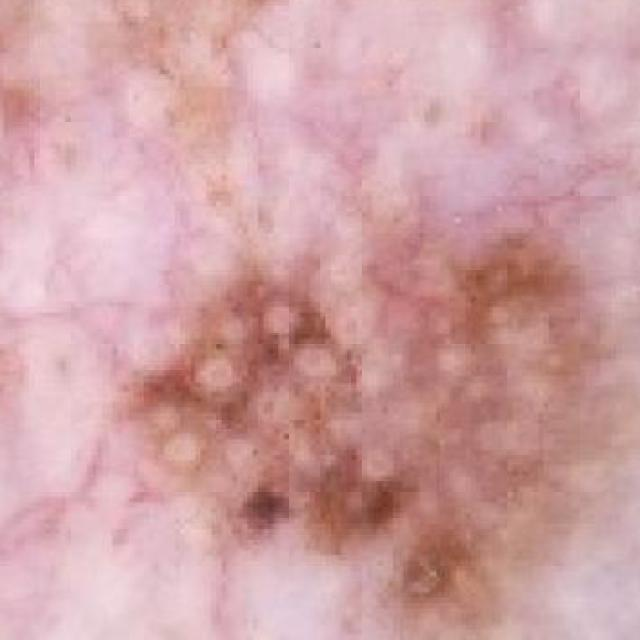AKIEC: (45, 33, 640, 640)
